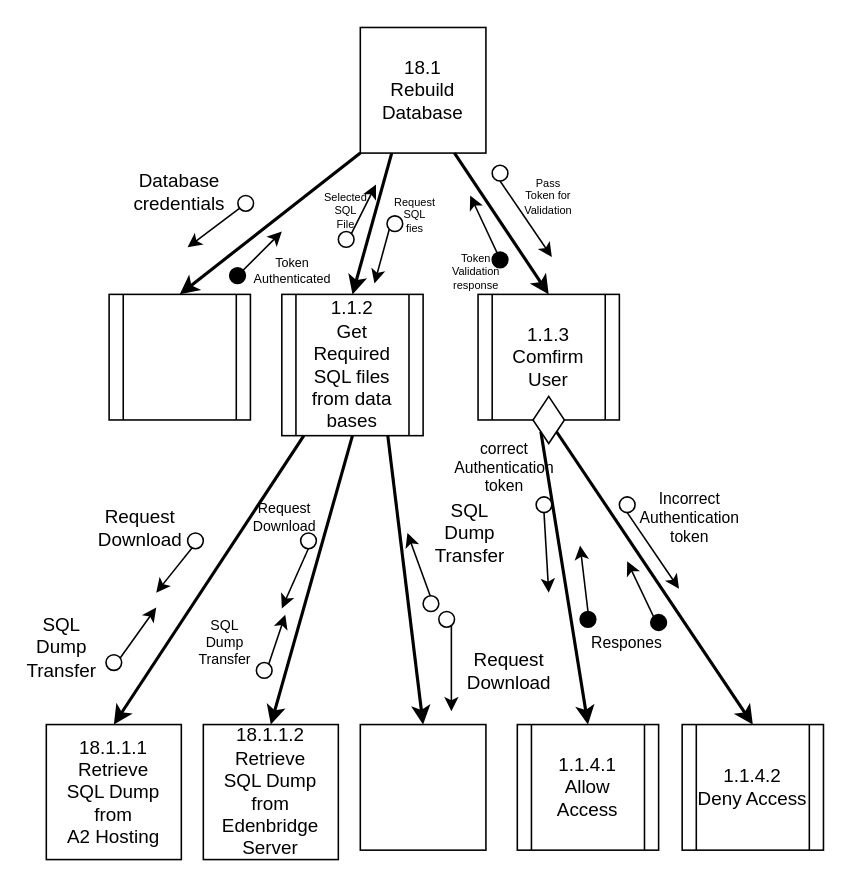
This 851x887 diagram has some shape labels left out. Each missing label, with the centre of its shape:
"1.1.1 Connect to Databases" goes at [179,356].
"18.1.1.3 Retrieve SQL Dump from Altis's Server" goes at [422,786].
